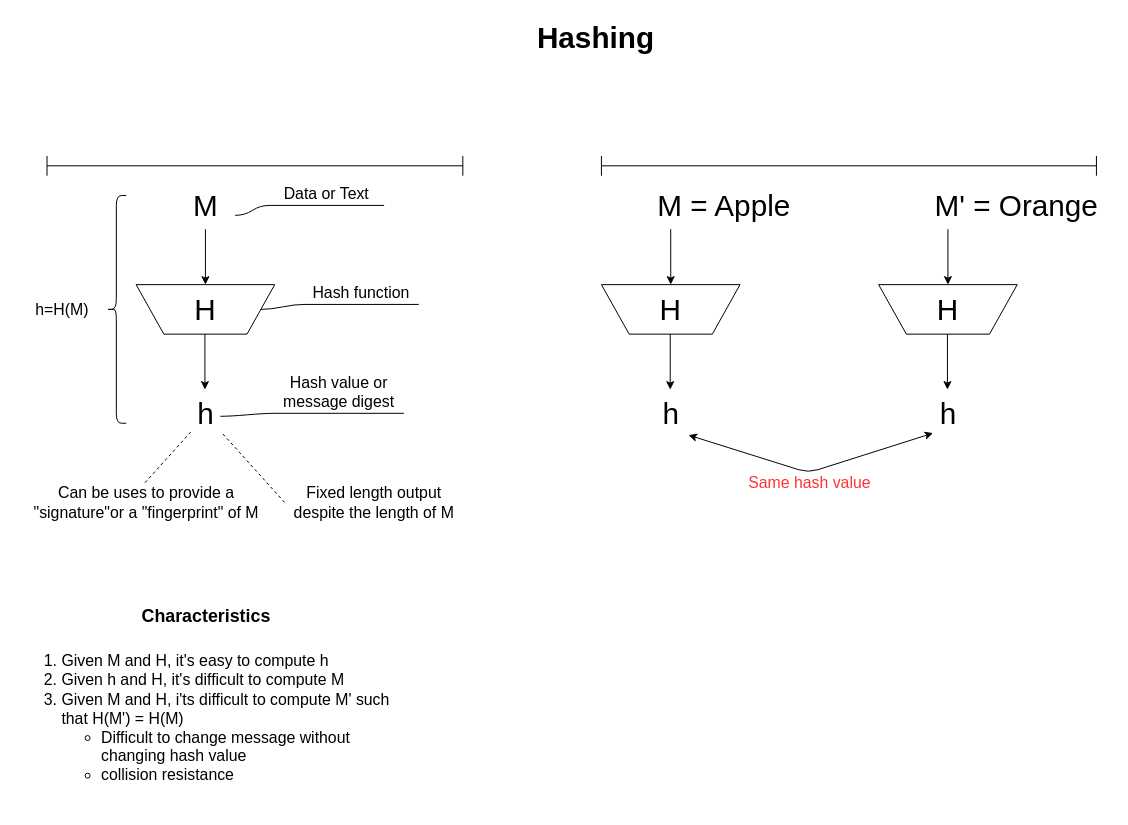
Image size: 1128x825. Some labels were removed from this diagram. The box of each missing label's shape, as (x1, y1, x2, y2) in pixels:
Collision example: (600, 155, 1096, 176)
One-way function: (46, 155, 463, 176)
